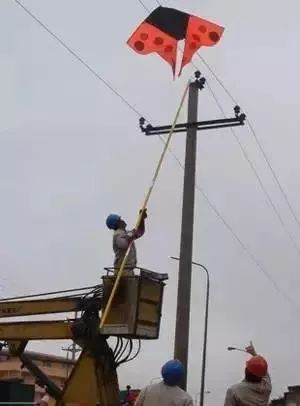kite: (125, 6, 227, 82)
